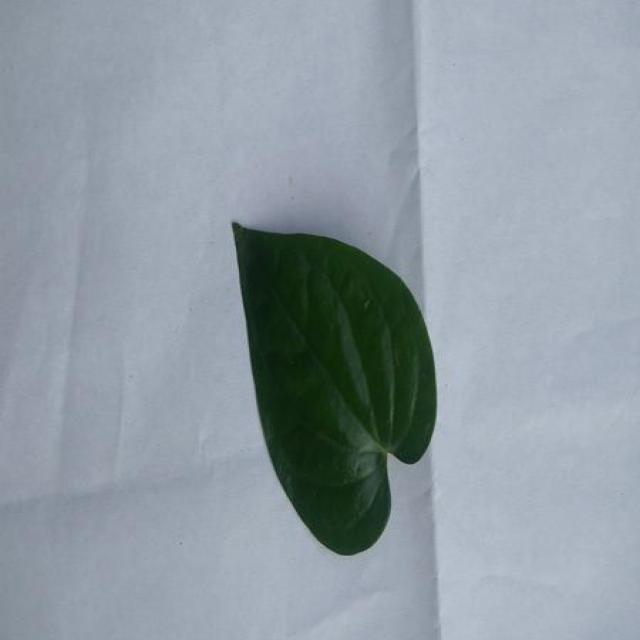betel: (234, 222, 437, 554)
